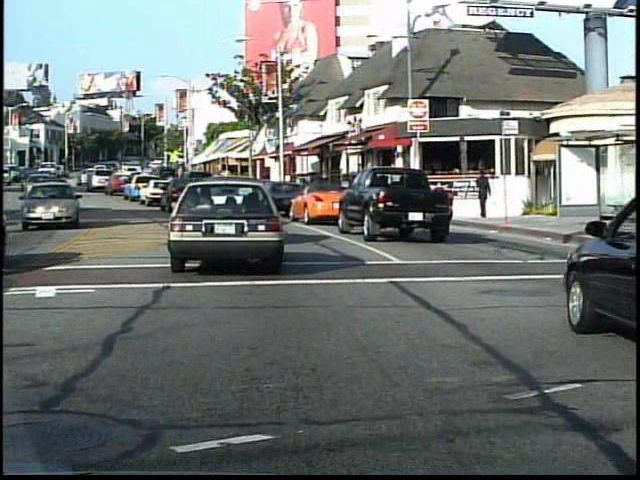person: (472, 170, 492, 224)
